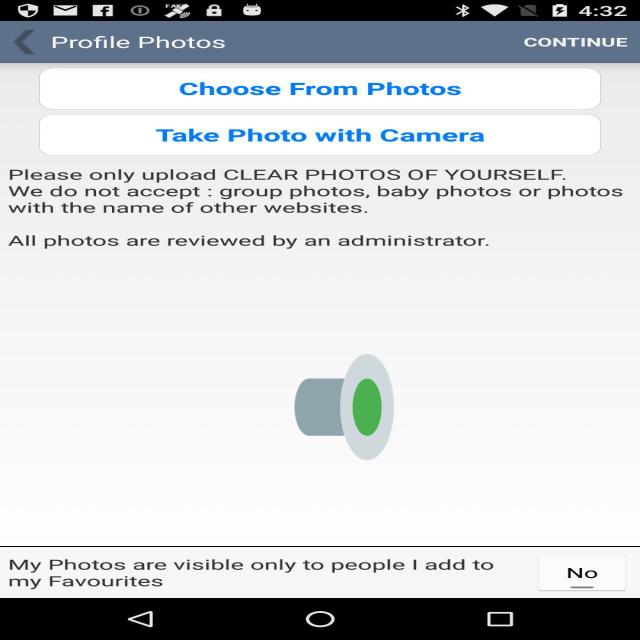social proof: (295, 309, 394, 505)
